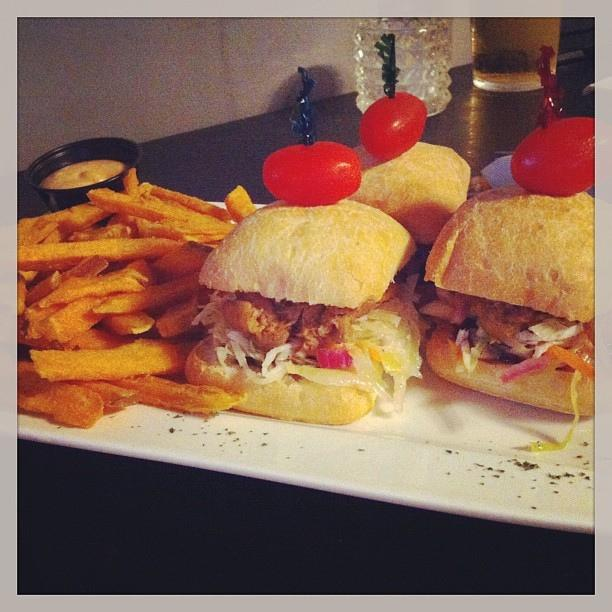tomato: (508, 116, 595, 198), (262, 141, 362, 205), (358, 92, 428, 160)
